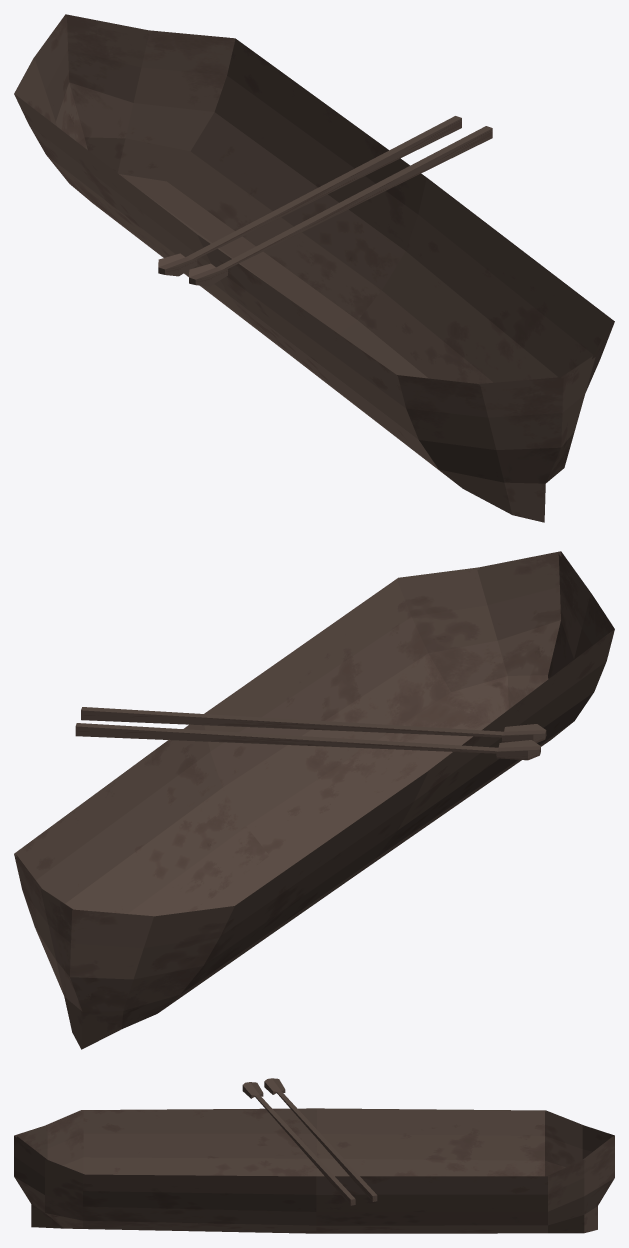
Rendered from Barca.fbx.
The picture shows the model from 3 angles, top to bottom: view 1: azimuth 30°, elevation 25°; view 2: azimuth 150°, elevation 25°; view 3: azimuth 270°, elevation 25°; orthographic projection. The views are drawn at different scales.
Visible parts, largest first — view 1: Cube.028; view 2: Cube.028; view 3: Cube.028.
Part boxes in pixels (bbox=[...]): Cube.028: bbox=[14, 14, 614, 522]; Cube.028: bbox=[14, 551, 614, 1049]; Cube.028: bbox=[14, 1078, 614, 1233].
Bounding box in the file's own units: 606 × 228 × 1307.
